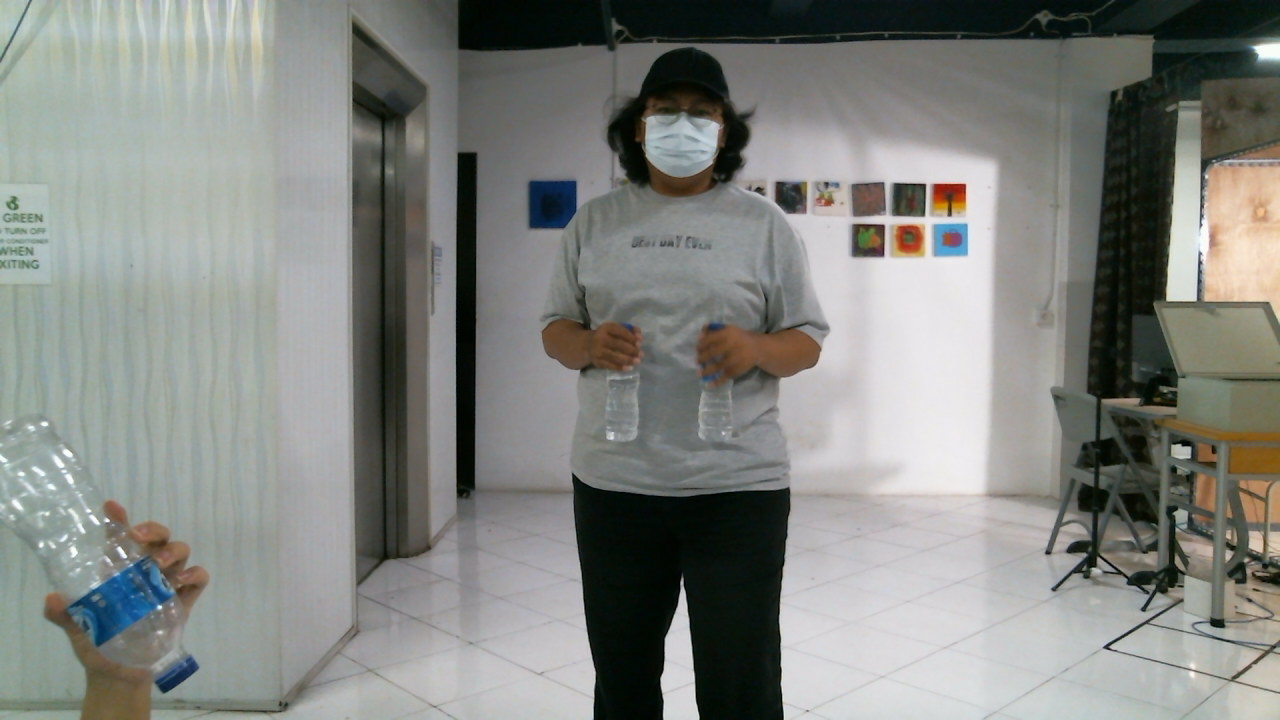Bottle: (2, 411, 199, 692)
